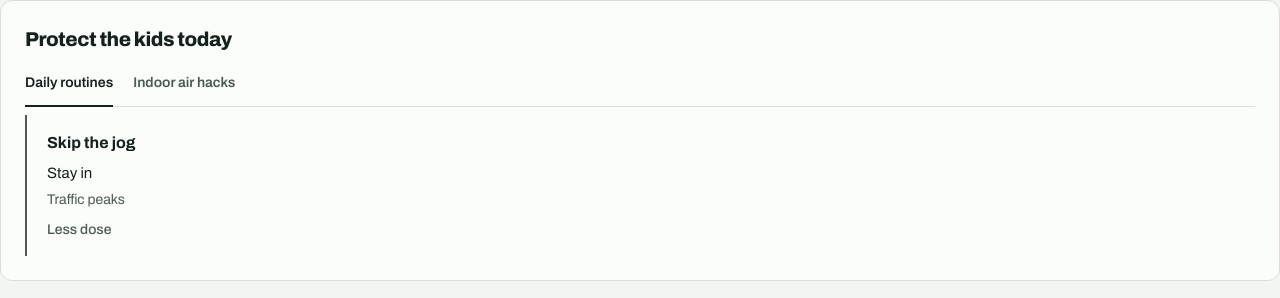
Test: PlanCard › switches tabs on click
The width and height of the screenshot is (1280, 298).
Click the tab "Indoor air hacks" at (184, 90), box top-left (133, 73), bottom-right (235, 107)
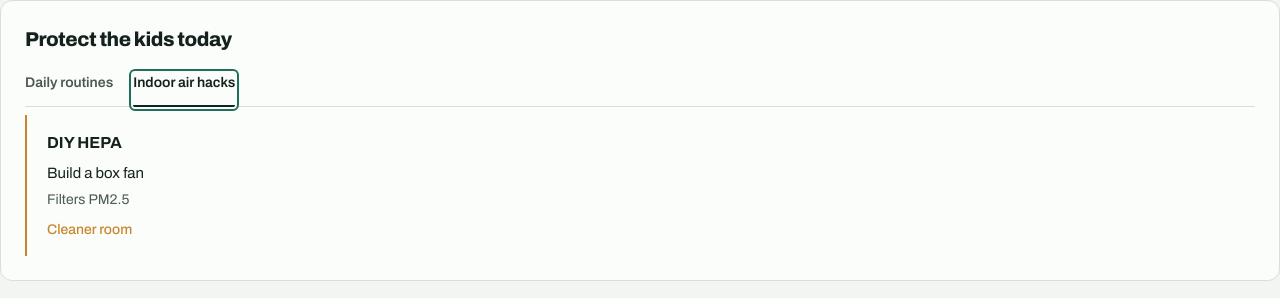
Check: the heading "DIY HEPA" is shown, box top-left (47, 134), bottom-right (122, 151)
